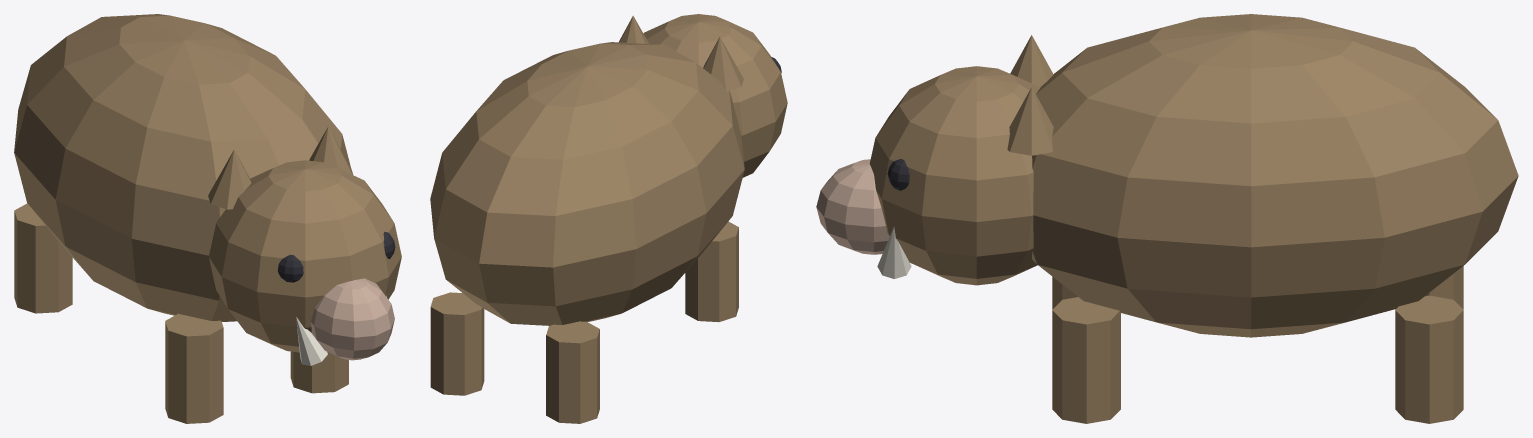
The model's file is creature_boar_brown.glb.
The picture shows the model from 3 angles, left to right: view 1: azimuth 30°, elevation 25°; view 2: azimuth 150°, elevation 25°; view 3: azimuth 270°, elevation 25°; orthographic projection. The views are drawn at different scales.
Parts seen in each view (by area): view 1: creature_boar_brown; view 2: creature_boar_brown; view 3: creature_boar_brown.
Boxes of the visible parts, x1=… form: creature_boar_brown: x1=14, y1=14, x2=401, y2=423; creature_boar_brown: x1=430, y1=14, x2=787, y2=423; creature_boar_brown: x1=816, y1=14, x2=1518, y2=423.
Bounding box in the file's own units: 0.8917 × 1 × 1.85.
